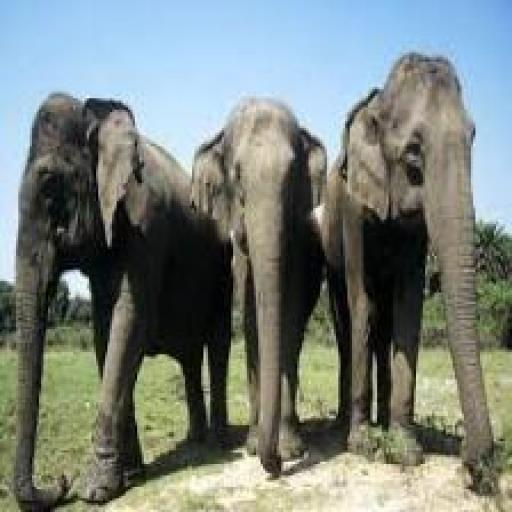Elephant: (7, 75, 240, 512), (318, 41, 500, 473), (164, 91, 348, 486)
